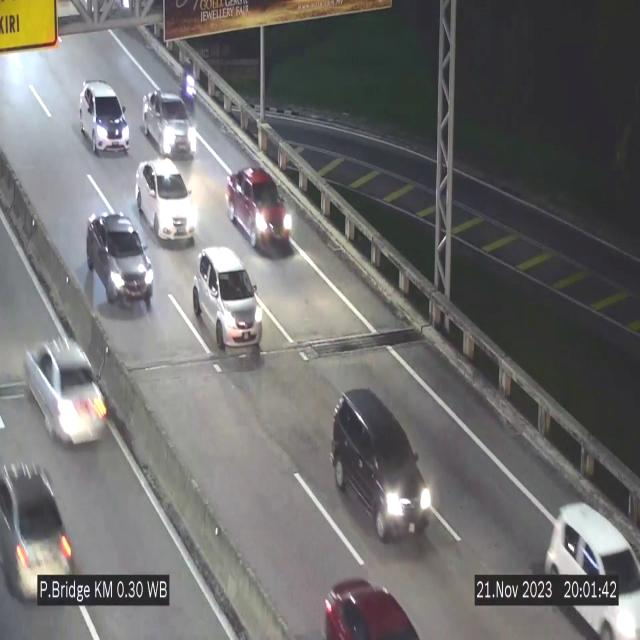Car: (0, 437, 104, 618), (539, 474, 640, 640), (331, 384, 433, 544), (24, 318, 112, 458), (310, 562, 420, 640), (193, 246, 261, 352), (86, 213, 154, 310), (229, 161, 296, 257), (136, 158, 197, 244), (80, 81, 129, 154), (142, 91, 195, 158)
Motorcycle: (180, 51, 197, 108)
